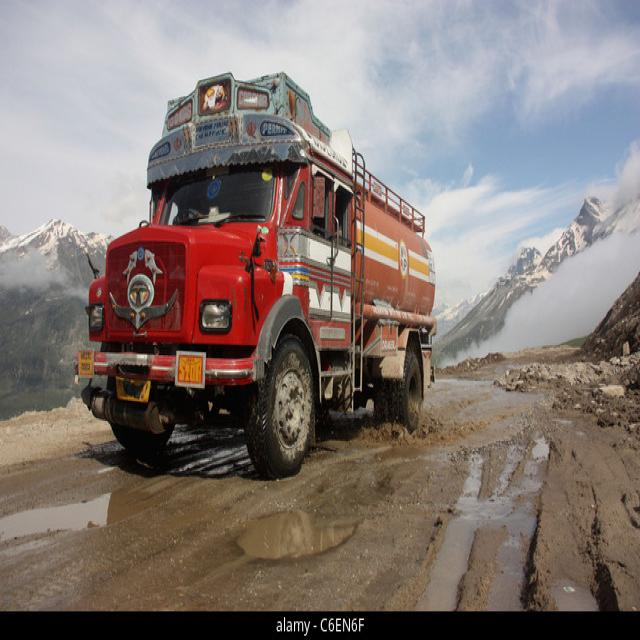truck: (75, 73, 436, 477)
